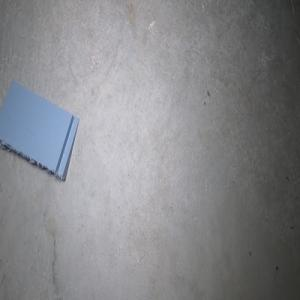PlasticPart: (0, 79, 79, 181)
